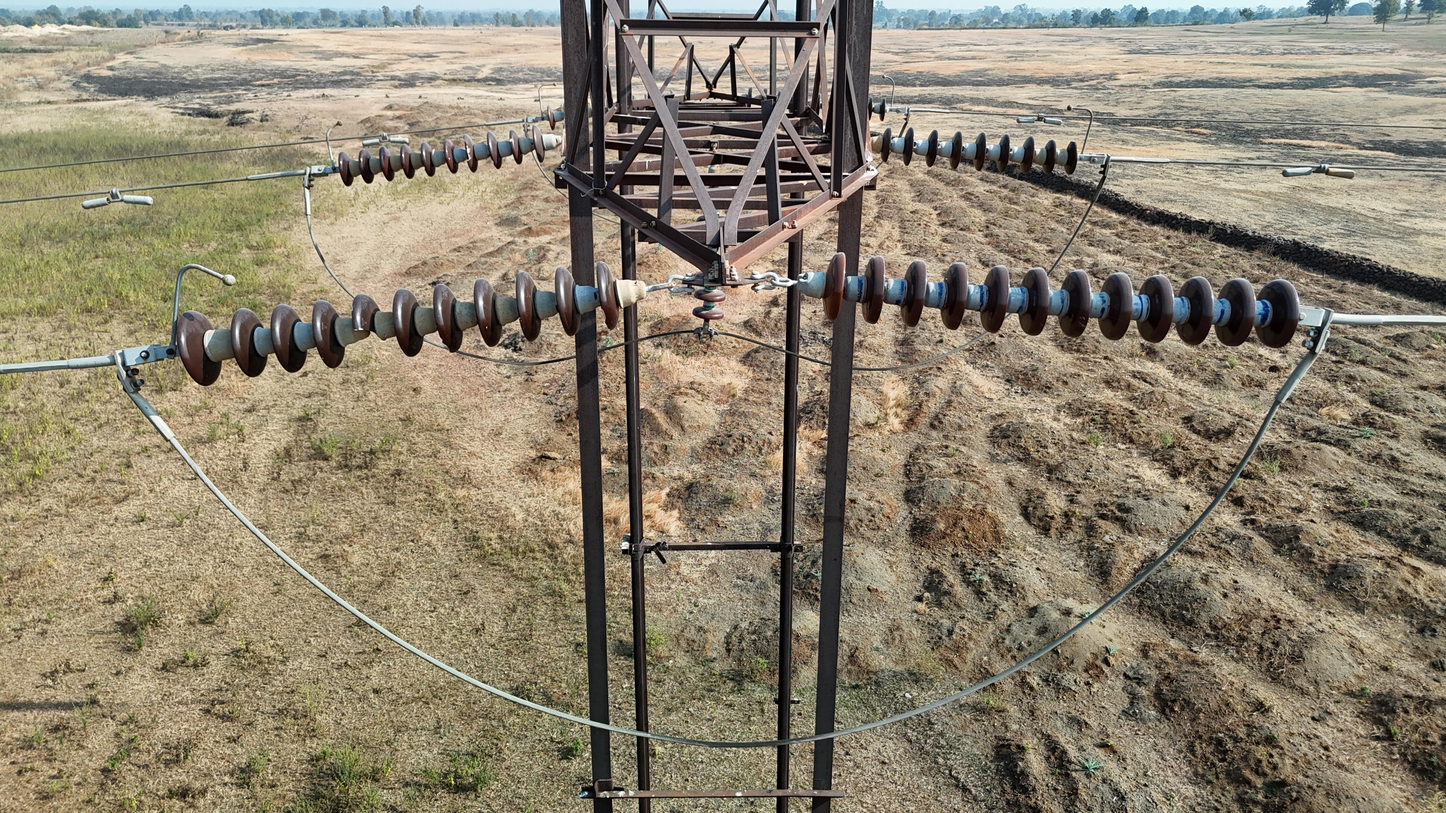broken_insulator: (338, 288, 389, 348), (592, 260, 625, 336), (462, 132, 479, 174)
